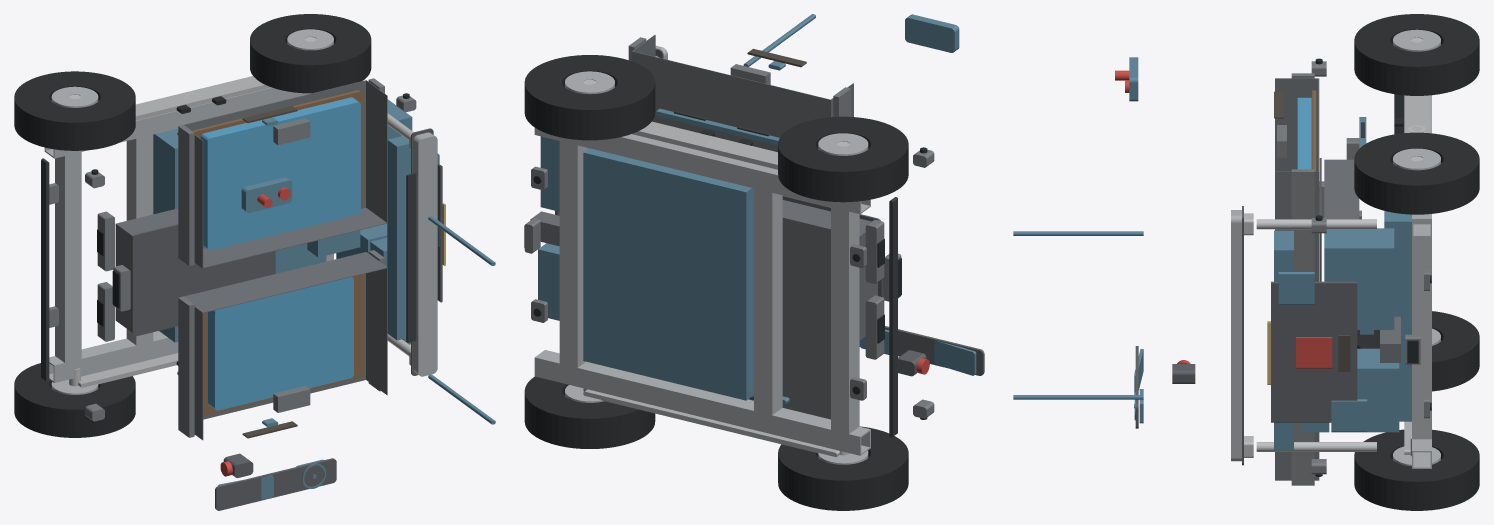
The model's file is workcore_internal_layout.glb.
The picture shows the model from 3 angles, left to right: view 1: azimuth 30°, elevation 25°; view 2: azimuth 150°, elevation 25°; view 3: azimuth 270°, elevation 25°; orthographic projection. The views are drawn at different scales.
Visible parts, largest first — view 1: laptop_16in_keepout_right, universal_flat_device_keepout_left, drawer_tray_right_upper, drawer_tray_left_upper, tyre_front_right, tyre_rear_right, daily_caddy_unpowered_access_lid, tyre_front_left, chassis_crossmember_1, obstacle_handle_crossbar_stowed, power_distribution_unit, battery_lfp_16s30ah_1p536kwh (+24 smaller); view 2: battery_lfp_16s30ah_1p536kwh, drawer_tray_right_upper, chassis_rail_left, tyre_rear_right, tyre_front_right, tyre_front_left, daily_caddy_liftout_bin_4p9l, chassis_crossmember_2, chassis_crossmember_1, tyre_rear_left, chassis_crossmember_3, chassis_rail_right (+17 smaller); view 3: service_rear_flush_door, tyre_rear_right, tyre_front_right, tyre_rear_left, communications_5g_wifi_uwb_module, drawer_tray_right_upper, chassis_crossmember_3, tyre_front_left, battery_lfp_16s30ah_1p536kwh, compute_core_cartridge, obstacle_handle_crossbar_stowed, cots_slide_right_upper_b (+19 smaller).
Boxes of the visible parts, x1,y1,x2,y2 form: laptop_16in_keepout_right: (200,97,360,250); universal_flat_device_keepout_left: (208,277,353,410); drawer_tray_right_upper: (184,80,387,268); drawer_tray_left_upper: (184,252,387,440); tyre_front_right: (14,71,135,150); tyre_rear_right: (250,14,371,93); daily_caddy_unpowered_access_lid: (131,224,275,336); tyre_front_left: (14,363,135,437); chassis_crossmember_1: (55,150,81,371); obstacle_handle_crossbar_stowed: (413,132,437,376); power_distribution_unit: (387,135,435,340); battery_lfp_16s30ah_1p536kwh: (153,128,326,342); battery_lfp_16s30ah_1p536kwh: (583,148,753,400); drawer_tray_right_upper: (632,35,853,152); chassis_rail_left: (534,350,870,455); tyre_rear_right: (524,55,655,140); tyre_front_right: (778,116,908,202); tyre_front_left: (778,426,908,510); daily_caddy_liftout_bin_4p9l: (782,200,877,340); chassis_crossmember_2: (754,179,782,422); chassis_crossmember_1: (831,207,859,443); tyre_rear_left: (524,376,655,448); chassis_crossmember_3: (559,140,587,376); chassis_rail_right: (534,128,870,214); service_rear_flush_door: (1271,281,1357,422); tyre_rear_right: (1354,132,1479,214); tyre_front_right: (1354,14,1479,95); tyre_rear_left: (1354,429,1479,510); communications_5g_wifi_uwb_module: (1324,228,1394,329); drawer_tray_right_upper: (1275,78,1319,281); chassis_crossmember_3: (1412,220,1431,439); tyre_front_left: (1357,311,1479,391); battery_lfp_16s30ah_1p536kwh: (1384,211,1411,421); compute_core_cartridge: (1357,348,1399,432); obstacle_handle_crossbar_stowed: (1231,210,1241,461); cots_slide_right_upper_b: (1291,169,1314,271).
Bounding box in the file's own units: 835 × 721 × 930.
